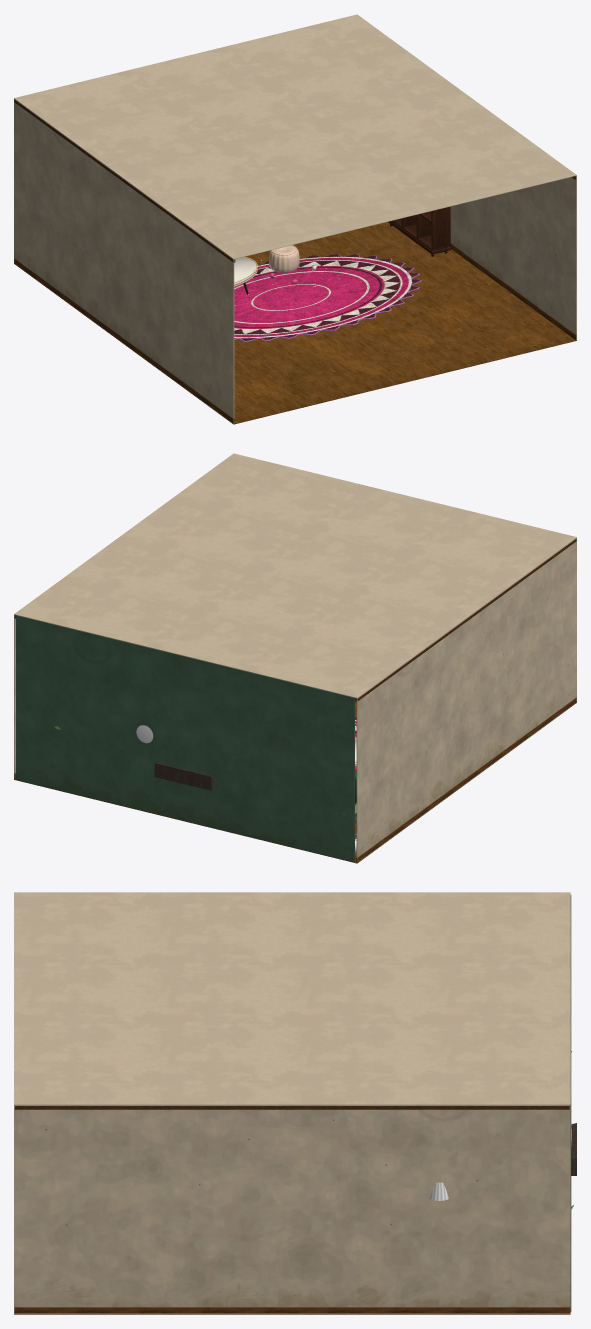
Rendered from room-back.glb.
3 renders of one model, top to bottom at view 1: azimuth 30°, elevation 25°; view 2: azimuth 150°, elevation 25°; view 3: azimuth 270°, elevation 25°, orthographic. The views are drawn at different scales.
Visible parts, largest first — view 1: S_static; view 2: S_static; view 3: S_static.
Part boxes in pixels (x1=…): S_static: x1=14, y1=14, x2=576, y2=424; S_static: x1=14, y1=453, x2=576, y2=863; S_static: x1=14, y1=892, x2=576, y2=1314.
Bounding box in the file's own units: 7.27 × 3.32 × 8.07.
27 materials, 21 textured.
